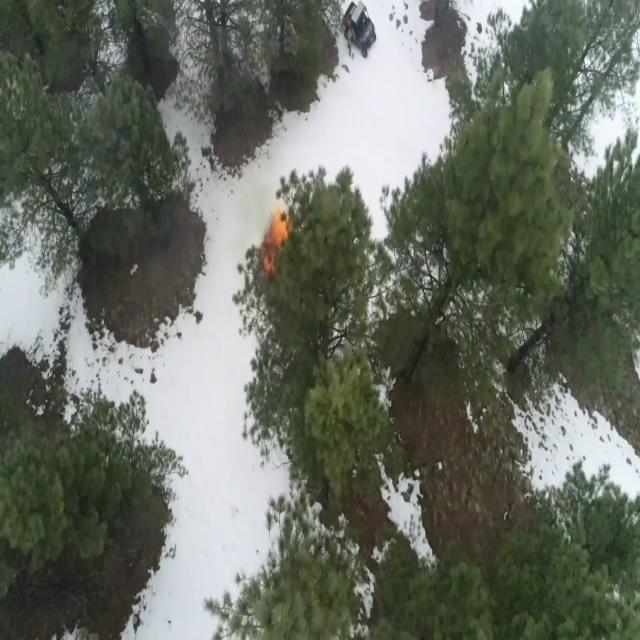fire: (264, 211, 292, 266)
